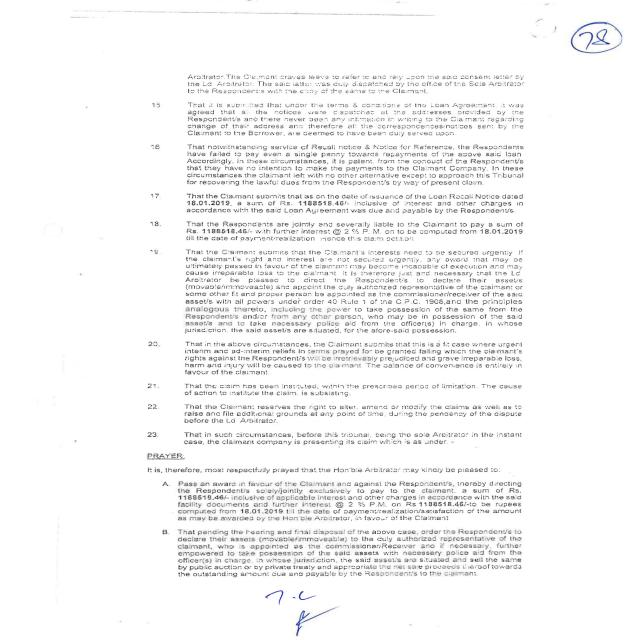page-number: (529, 6, 636, 179)
